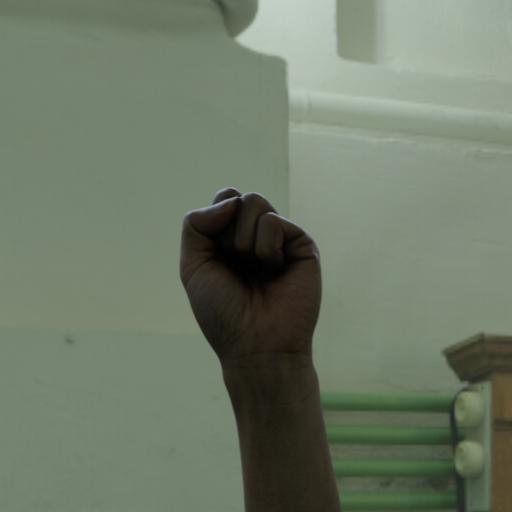S: (139, 163, 361, 512)
